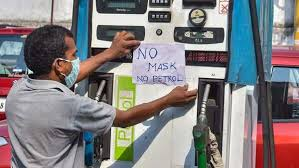mask: (42, 40, 86, 91)
